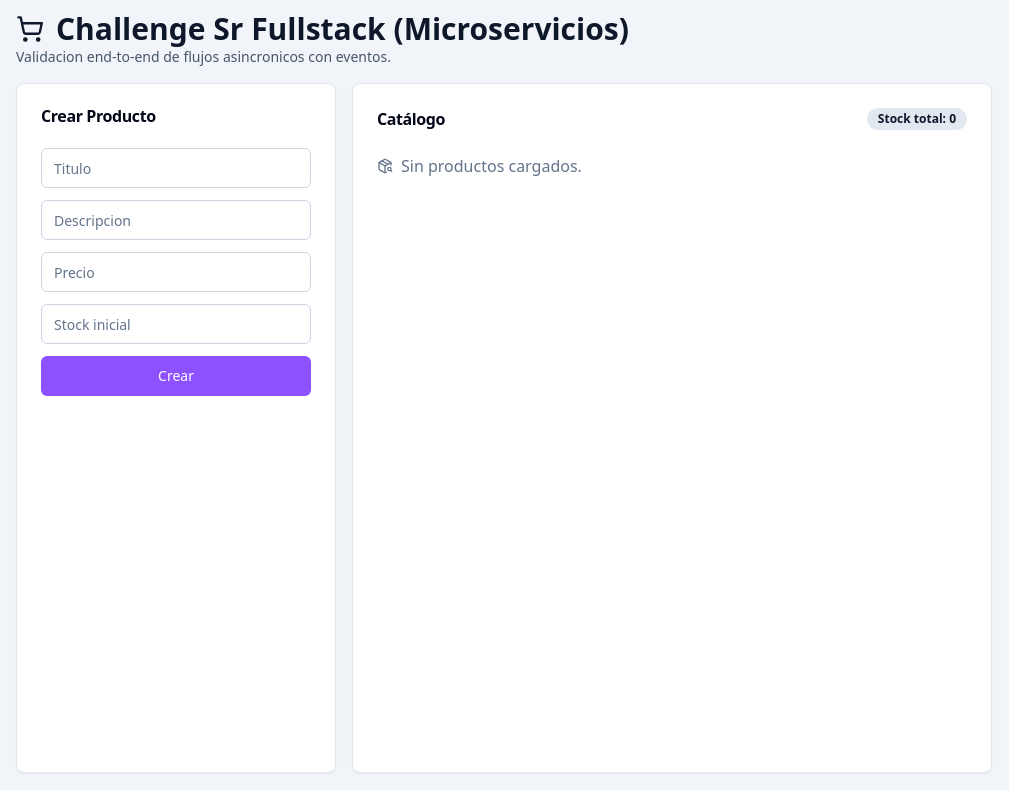
Test: App › creates a product with initial stock when provided
In the field with placeholder "Titulo": (176, 168) x1=41 y1=148 x2=311 y2=188, type "Created With Stock"
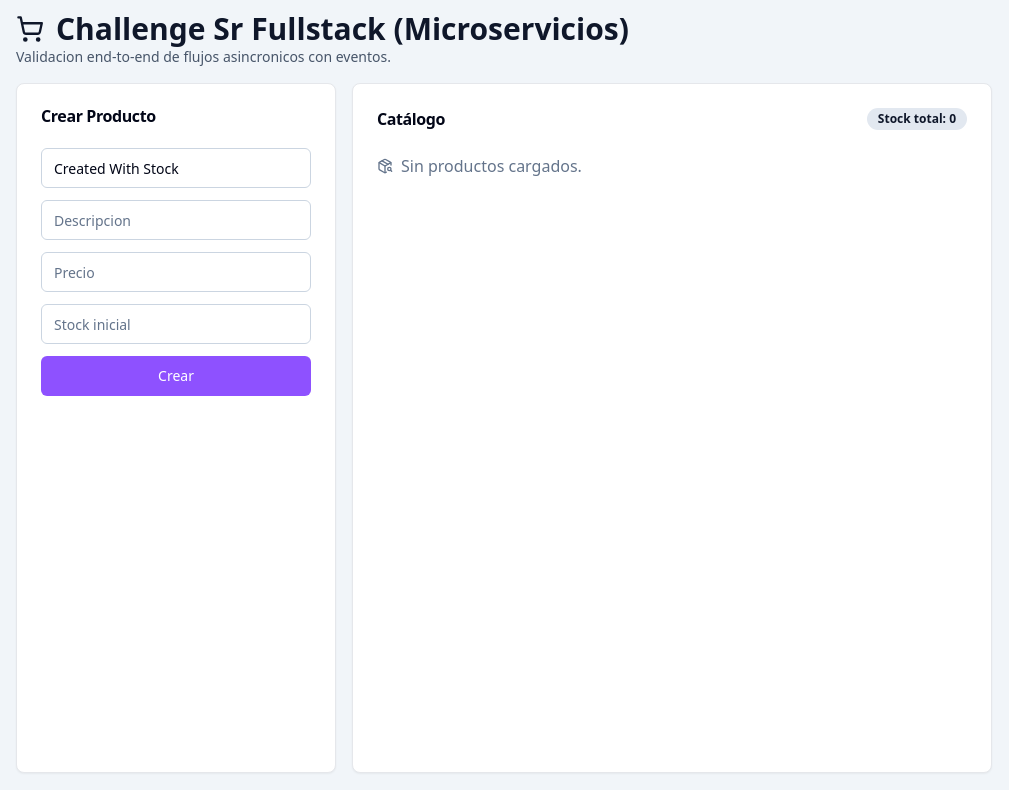
In the number field with placeholder "Precio": (176, 272) x1=41 y1=252 x2=311 y2=292, type "99"
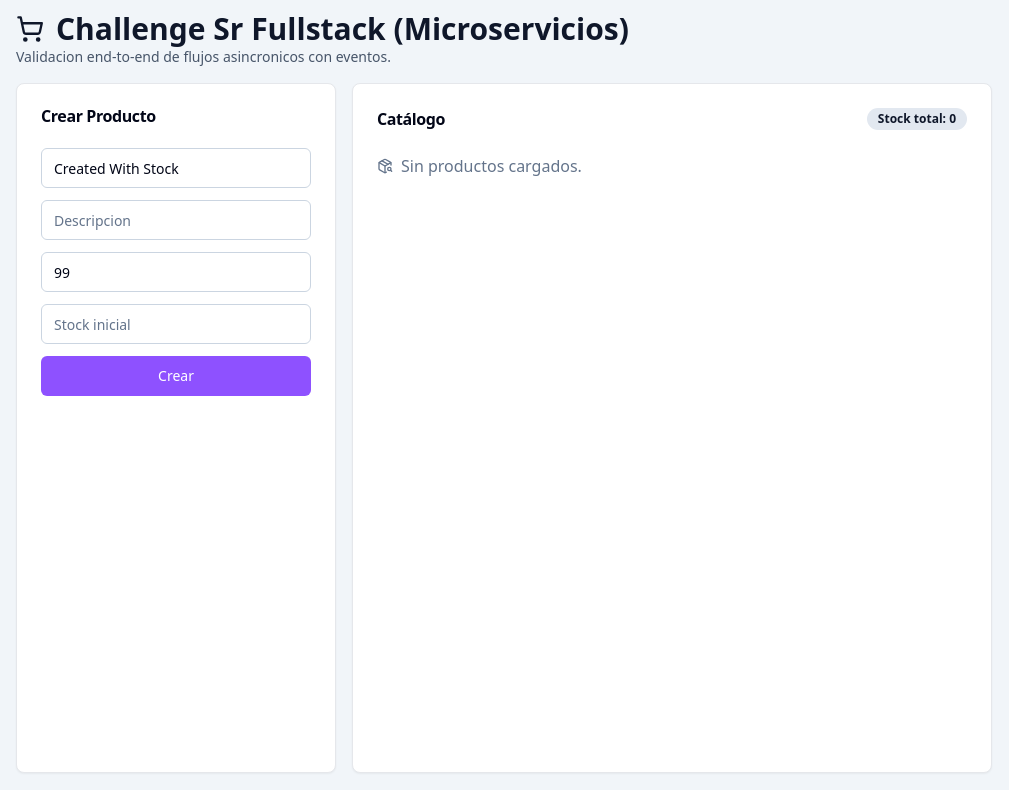
In the number field with placeholder "Stock inicial": (176, 324) x1=41 y1=304 x2=311 y2=344, type "5"
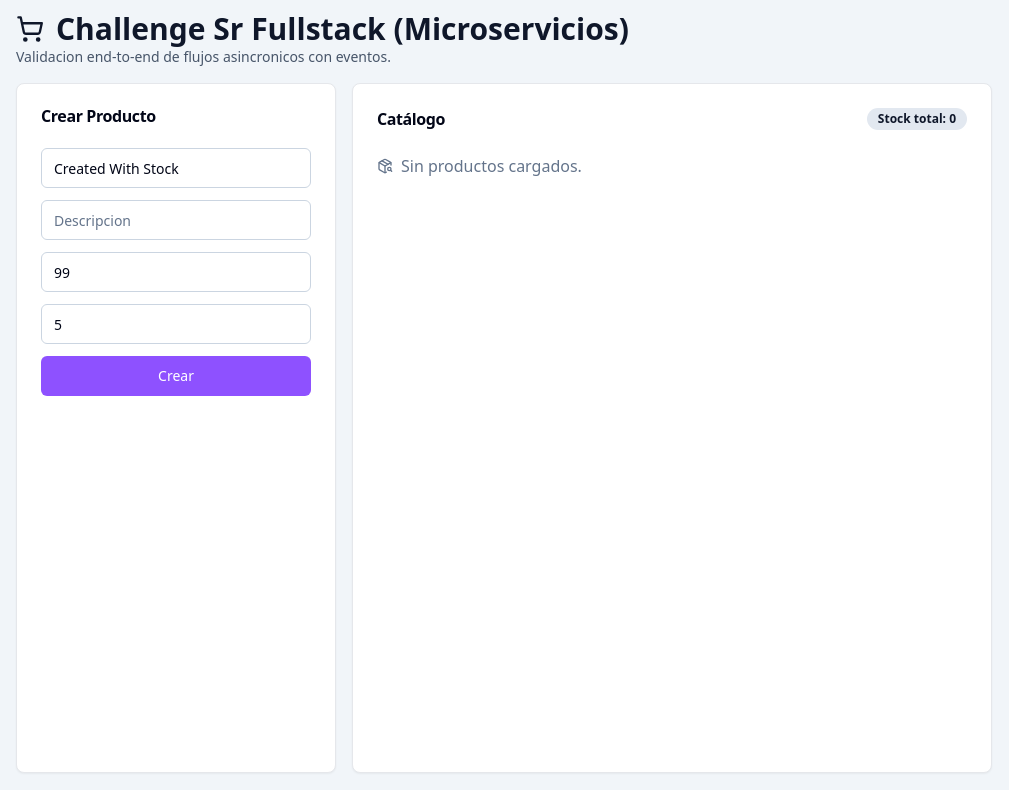
Click the button "Crear": click(176, 376) x1=41 y1=356 x2=311 y2=396
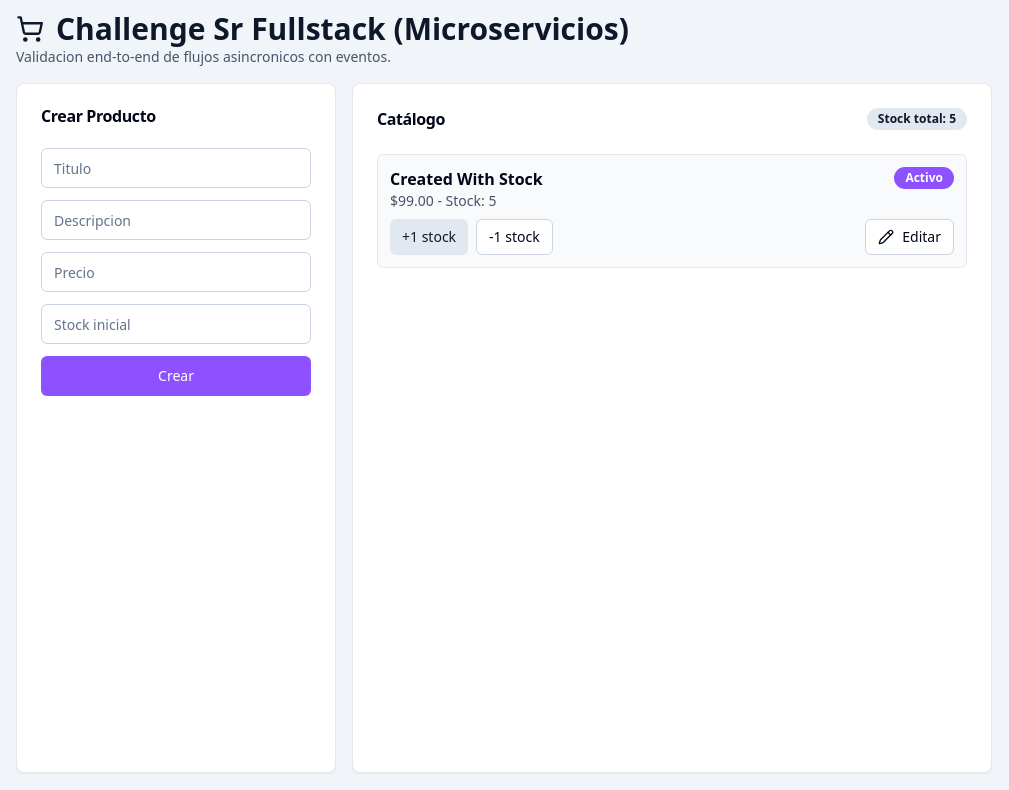
expect the text "$99.00 - Stock: 5" is shown: met, box x1=390 y1=191 x2=496 y2=210
